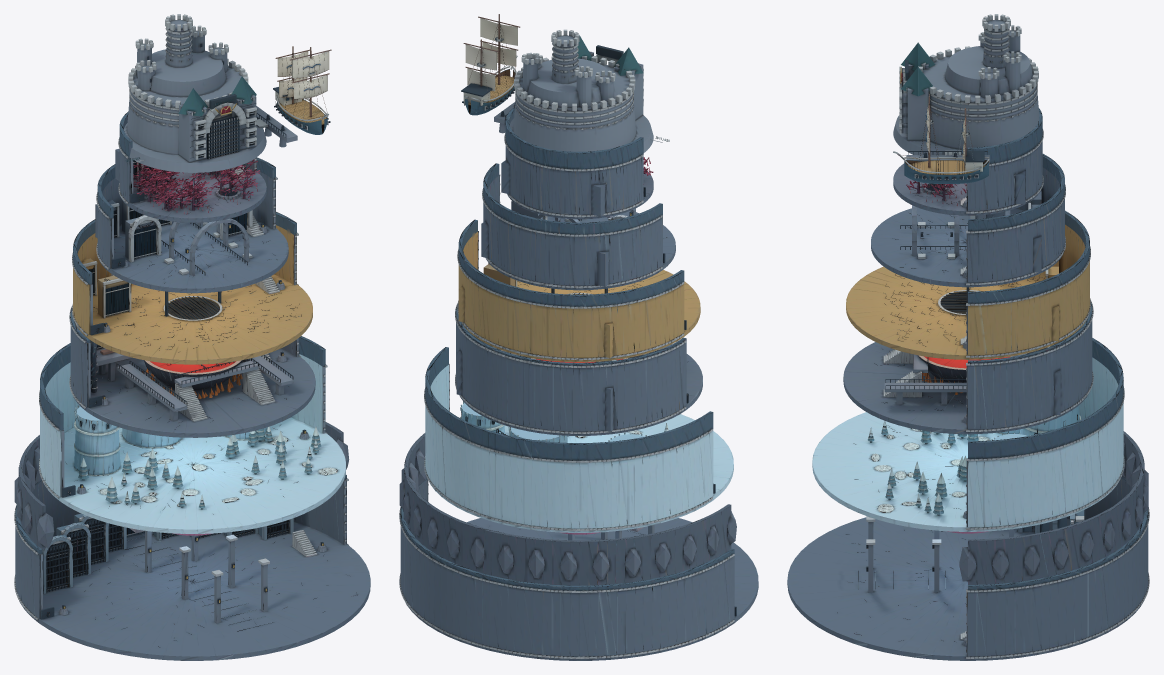
File: impel-down.glb
The picture shows the model from 3 angles, left to right: view 1: azimuth 30°, elevation 25°; view 2: azimuth 150°, elevation 25°; view 3: azimuth 270°, elevation 25°; orthographic projection.
Visible parts, largest first — view 1: floor6-district-1-1, floor5-district-1-1, floor3-district-1-1, floor4-district-1-1, floor2-district-1-1, surface-district-1-1, floor1-district-1-1, surface-district-1-2, floor4-district-1-2, ship-district-1-1, floor6-district-0-1, floor1-district-1-2 (+20 smaller); view 2: floor5-district-1-1, floor6-district-1-1, floor4-district-1-1, floor3-district-1-1, floor2-district-1-1, structure-district-1-1, surface-district-1-1, floor1-district-1-1, ship-district-1-1, surface-district-1-2, structure-district-1-0, surface-district-2-1 (+11 smaller); view 3: floor6-district-1-1, floor5-district-1-1, floor3-district-1-1, floor4-district-1-1, floor2-district-1-1, surface-district-1-1, structure-district-1-1, floor1-district-1-1, surface-district-2-1, surface-district-2-2, ship-district-1-1, floor4-district-2-2 (+16 smaller).
Part boxes in pixels (bbox=[...]): floor6-district-1-1: bbox=[15, 474, 370, 660]; floor5-district-1-1: bbox=[40, 336, 345, 533]; floor3-district-1-1: bbox=[72, 212, 312, 364]; floor4-district-1-1: bbox=[70, 306, 315, 437]; floor2-district-1-1: bbox=[95, 157, 288, 293]; surface-district-1-1: bbox=[123, 14, 266, 172]; floor1-district-1-1: bbox=[115, 112, 266, 222]; surface-district-1-2: bbox=[162, 88, 246, 162]; floor4-district-1-2: bbox=[117, 360, 258, 429]; ship-district-1-1: bbox=[276, 51, 329, 134]; floor6-district-0-1: bbox=[14, 511, 85, 620]; floor1-district-1-2: bbox=[153, 169, 240, 214]; floor5-district-1-1: bbox=[425, 347, 733, 532]; floor6-district-1-1: bbox=[400, 478, 758, 660]; floor4-district-1-1: bbox=[456, 305, 702, 435]; floor3-district-1-1: bbox=[458, 219, 700, 362]; floor2-district-1-1: bbox=[483, 163, 675, 290]; structure-district-1-1: bbox=[404, 433, 731, 585]; surface-district-1-1: bbox=[509, 29, 669, 152]; floor1-district-1-1: bbox=[505, 107, 653, 219]; ship-district-1-1: bbox=[464, 18, 517, 115]; surface-district-1-2: bbox=[582, 45, 643, 120]; structure-district-1-0: bbox=[470, 538, 577, 580]; surface-district-2-1: bbox=[494, 52, 548, 133]; floor6-district-1-1: bbox=[787, 477, 1148, 660]; floor5-district-1-1: bbox=[812, 338, 1123, 531]; floor3-district-1-1: bbox=[846, 210, 1089, 359]; floor4-district-1-1: bbox=[843, 302, 1092, 434]; floor2-district-1-1: bbox=[871, 154, 1065, 287]; surface-district-1-1: bbox=[893, 14, 1039, 154]; structure-district-1-1: bbox=[968, 431, 1144, 584]; floor1-district-1-1: bbox=[893, 108, 1043, 215]; surface-district-2-1: bbox=[906, 52, 1033, 164]; surface-district-2-2: bbox=[899, 67, 944, 157]; ship-district-1-1: bbox=[893, 103, 989, 183]; floor4-district-2-2: bbox=[883, 366, 966, 410].
Size of the model in its own units: 292 by 500 by 291.
1 material, 1 textured.
